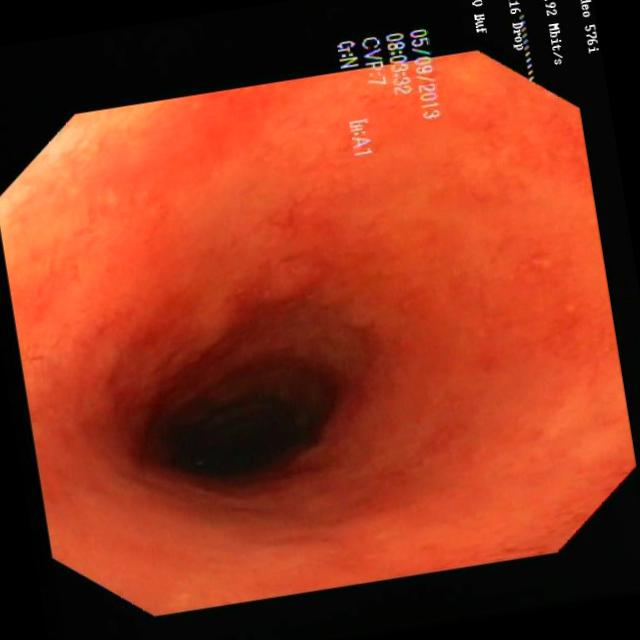ulcerative-colities: (146, 306, 403, 442)
